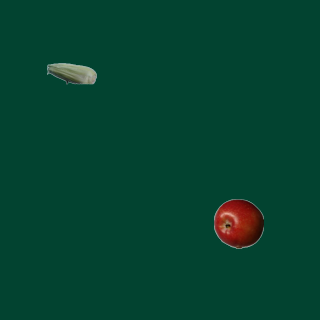Apple Braeburn: (213, 198, 263, 248)
Corn Husk: (46, 48, 96, 98)
